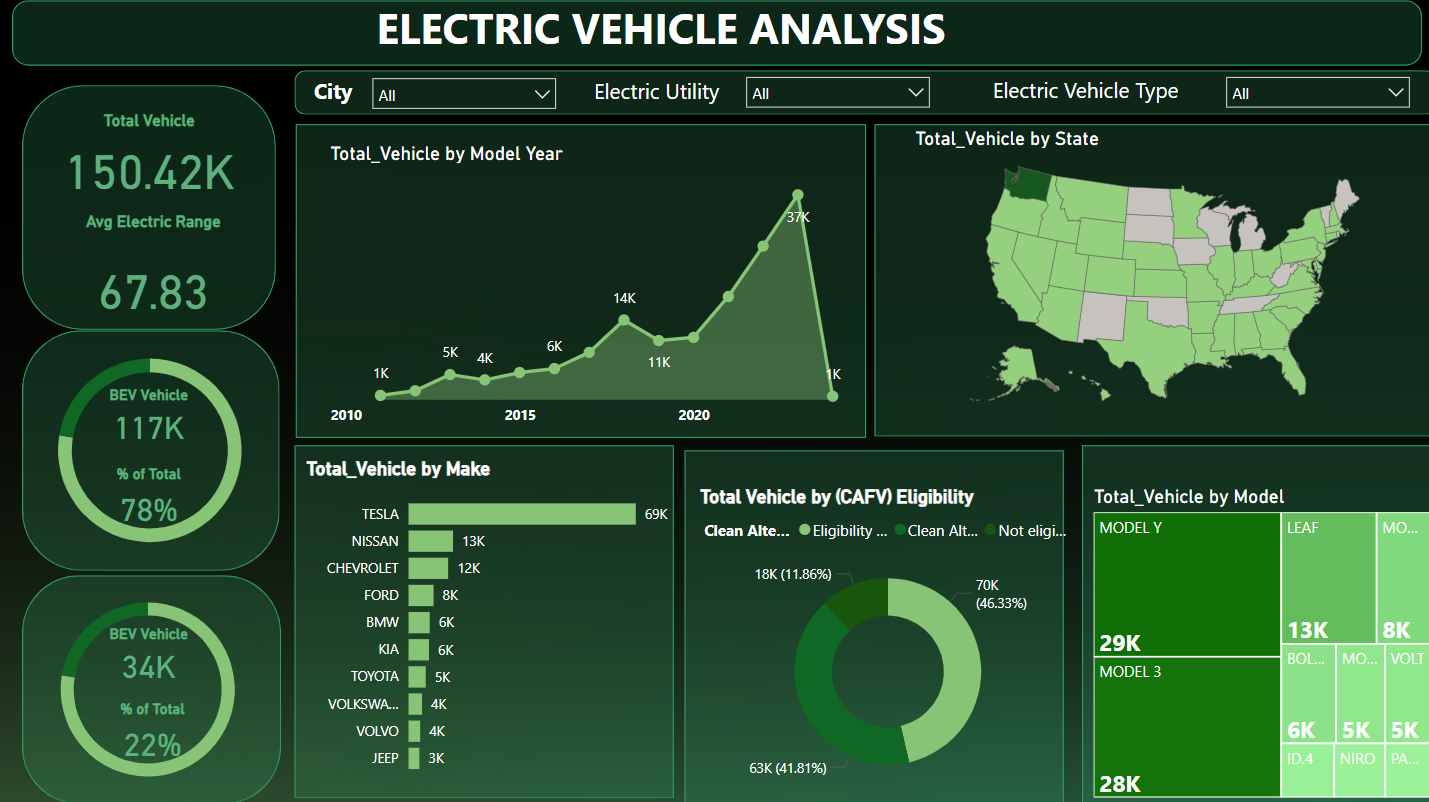

The dashboard page shown, as its layout file describes it:
{"tool":"powerbi","page":{"name":"Page 1","canvas":[1280,720],"ordinal":0},"visuals":[{"type":"shape","box":[964,401.2,316.3,318.6],"z":0},{"type":"shape","box":[264,401.2,337.2,314],"z":1000},{"type":"shape","box":[611.6,405.8,337.2,314],"z":2000},{"type":"shape","box":[780.2,115.1,500,277.9],"z":3000},{"type":"shape","box":[265.1,115.1,507,279.1],"z":4000},{"type":"shape","box":[12.8,5.8,1253.5,58.1],"z":5000},{"type":"shape","box":[264.9,67.4,1015.1,39.5],"z":6000},{"type":"shape","box":[22.1,81.4,225.6,217.4],"z":7000},{"type":"shape","box":[22.1,298.8,229.1,214],"z":8000},{"type":"shape","box":[22.1,516.3,230.2,203.5],"z":9000},{"type":"textbox","box":[332.6,0,539.5,62.8],"z":10000},{"type":"card","title":"Total Vehicle","fields":{"Values":["Electric_Vehicle_Population_Data.Total_Vehicle"]},"box":[25.6,103.5,219.8,89.5],"z":11000},{"type":"slicer","fields":{"Values":["Electric_Vehicle_Population_Data.City"]},"box":[323.3,64,183.7,43],"z":12000},{"type":"textbox","box":[276.7,68.8,73.3,39.5],"z":13000},{"type":"textbox","box":[525.6,68.8,130.2,40.7],"z":14000},{"type":"slicer","fields":{"Values":["Electric_Vehicle_Population_Data.Electric Utility"]},"box":[655.8,62.8,183.7,44.2],"z":15000},{"type":"slicer","fields":{"Values":["Electric_Vehicle_Population_Data.City"]},"box":[1082.6,62.8,183.7,43],"z":16000},{"type":"textbox","box":[880.2,67.6,202.3,43],"z":17000},{"type":"card","title":"Avg Electric Range ","fields":{"Values":["Electric_Vehicle_Population_Data.Avg_range"]},"box":[22.1,193,233.7,122.1],"z":18000},{"type":"treemap","fields":{"Values":["Electric_Vehicle_Population_Data.Total_Vehicle"],"Group":["Electric_Vehicle_Population_Data.Model"]},"box":[969.8,437.2,310.5,282.6],"z":19000},{"type":"donutChart","title":"Total Vehicle by (CAFV) Eligibility","fields":{"Y":["Electric_Vehicle_Population_Data.Total_Vehicle"],"Category":["Electric_Vehicle_Population_Data.Clean Alternative Fuel Vehicle (CAFV) Eligibility"]},"box":[619.8,437.2,344.2,282.6],"z":20000},{"type":"clusteredBarChart","fields":{"Category":["Electric_Vehicle_Population_Data.Make"],"Y":["Electric_Vehicle_Population_Data.Total_Vehicle"]},"box":[269.8,411.6,331.4,293],"z":21000},{"type":"shapeMap","fields":{"Category":["Electric_Vehicle_Population_Data.State"],"Value":["Electric_Vehicle_Population_Data.Total_Vehicle"]},"box":[811.6,117.4,454.7,260.5],"z":22000},{"type":"areaChart","fields":{"Y":["Electric_Vehicle_Population_Data.Total_Vehicle"],"Category":["Electric_Vehicle_Population_Data.Model Year"]},"box":[290.7,131.4,470.9,261.6],"z":23000},{"type":"donutChart","fields":{"Category":["Electric_Vehicle_Population_Data.Electric Vehicle Type"],"Y":["Electric_Vehicle_Population_Data.Total_Vehicle"]},"box":[1.2,298.8,269.8,214],"z":24000},{"type":"card","title":"BEV Vehicle","fields":{"Values":["Electric_Vehicle_Population_Data.BEV"]},"box":[61.6,348.8,147.7,57],"z":25000},{"type":"card","title":"% of Total","fields":{"Values":["Electric_Vehicle_Population_Data.% of BEV"]},"box":[61.6,418.6,147.7,61.6],"z":26000},{"type":"donutChart","fields":{"Category":["Electric_Vehicle_Population_Data.Electric Vehicle Type"],"Y":["Electric_Vehicle_Population_Data.Total_Vehicle"]},"box":[3.5,516.3,261.6,203.5],"z":27000},{"type":"card","title":"BEV Vehicle","fields":{"Values":["Electric_Vehicle_Population_Data.PHEV"]},"box":[61.6,561.6,147.7,57],"z":28000},{"type":"card","title":"% of Total","fields":{"Values":["Electric_Vehicle_Population_Data.% of PHEV"]},"box":[64,627.9,147.7,61.6],"z":29000}]}

Visuals, with their boxes in screenshot pixels (x1, y1, x2, y2), scaled from the page's 1280x720 canvas onto the 1429x802 screenshot:
shape: (x1=1076, y1=447, x2=1428, y2=801)
shape: (x1=295, y1=447, x2=671, y2=797)
shape: (x1=683, y1=452, x2=1059, y2=801)
shape: (x1=871, y1=128, x2=1428, y2=438)
shape: (x1=296, y1=128, x2=862, y2=439)
shape: (x1=14, y1=6, x2=1414, y2=71)
shape: (x1=296, y1=75, x2=1428, y2=119)
shape: (x1=25, y1=91, x2=277, y2=333)
shape: (x1=25, y1=333, x2=280, y2=571)
shape: (x1=25, y1=575, x2=282, y2=801)
textbox: (x1=371, y1=0, x2=974, y2=70)
"Total Vehicle" card: (x1=29, y1=115, x2=274, y2=215)
slicer - Electric_Vehicle_Population_Data.City: (x1=361, y1=71, x2=566, y2=119)
textbox: (x1=309, y1=77, x2=391, y2=121)
textbox: (x1=587, y1=77, x2=732, y2=122)
slicer - Electric_Vehicle_Population_Data.Electric Utility: (x1=732, y1=70, x2=937, y2=119)
slicer - Electric_Vehicle_Population_Data.City: (x1=1209, y1=70, x2=1414, y2=118)
textbox: (x1=983, y1=75, x2=1209, y2=123)
"Avg Electric Range " card: (x1=25, y1=215, x2=286, y2=351)
treemap - Electric_Vehicle_Population_Data.Total_Vehicle x Electric_Vehicle_Population_Data.Model: (x1=1083, y1=487, x2=1428, y2=801)
"Total Vehicle by (CAFV) Eligibility" donutChart: (x1=692, y1=487, x2=1076, y2=801)
clusteredBarChart - Electric_Vehicle_Population_Data.Make x Electric_Vehicle_Population_Data.Total_Vehicle: (x1=301, y1=458, x2=671, y2=785)
shapeMap - Electric_Vehicle_Population_Data.State x Electric_Vehicle_Population_Data.Total_Vehicle: (x1=906, y1=131, x2=1414, y2=421)
areaChart - Electric_Vehicle_Population_Data.Total_Vehicle x Electric_Vehicle_Population_Data.Model Year: (x1=325, y1=146, x2=850, y2=438)
donutChart - Electric_Vehicle_Population_Data.Electric Vehicle Type x Electric_Vehicle_Population_Data.Total_Vehicle: (x1=1, y1=333, x2=303, y2=571)
"BEV Vehicle" card: (x1=69, y1=389, x2=234, y2=452)
"% of Total" card: (x1=69, y1=466, x2=234, y2=535)
donutChart - Electric_Vehicle_Population_Data.Electric Vehicle Type x Electric_Vehicle_Population_Data.Total_Vehicle: (x1=4, y1=575, x2=296, y2=801)
"BEV Vehicle" card: (x1=69, y1=626, x2=234, y2=689)
"% of Total" card: (x1=71, y1=699, x2=236, y2=768)
